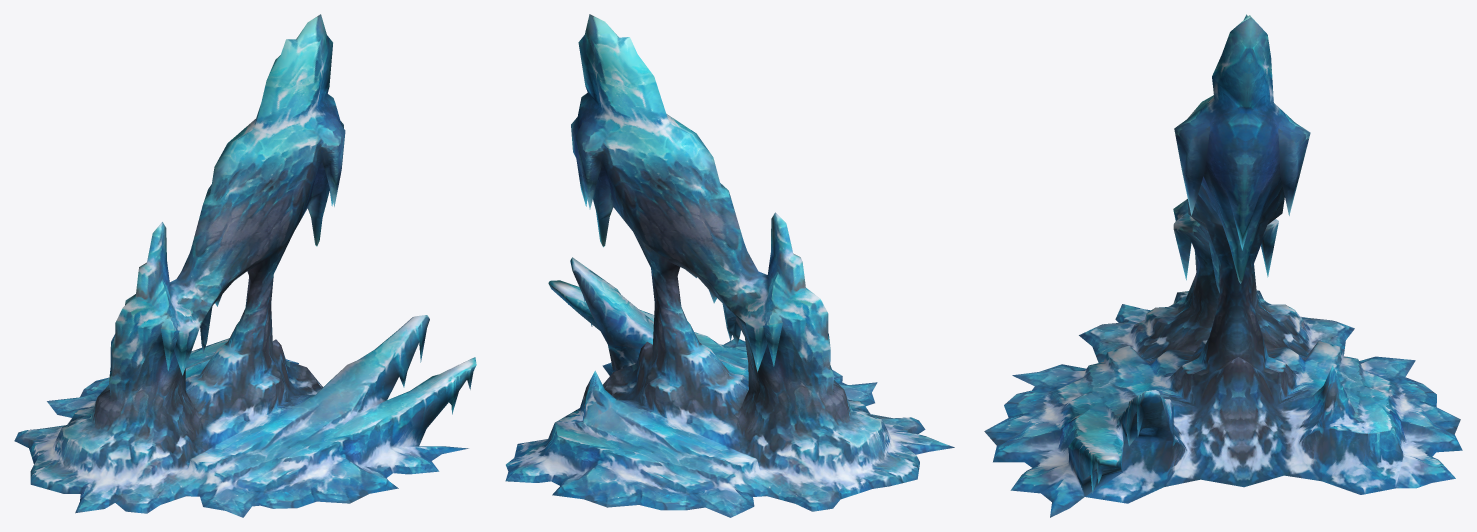
Rendered from iStone_01.FBX.
3 renders of one model, left to right at view 1: azimuth 30°, elevation 25°; view 2: azimuth 150°, elevation 25°; view 3: azimuth 270°, elevation 25°, orthographic. The views are drawn at different scales.
Visible parts, largest first — view 1: iStone_01; view 2: iStone_01; view 3: iStone_01.
Part boxes in pixels (bbox=[...]): iStone_01: bbox=[14, 14, 476, 517]; iStone_01: bbox=[505, 14, 954, 517]; iStone_01: bbox=[984, 14, 1462, 517].
Size of the model in its own units: 1250 by 1085 by 1159.
